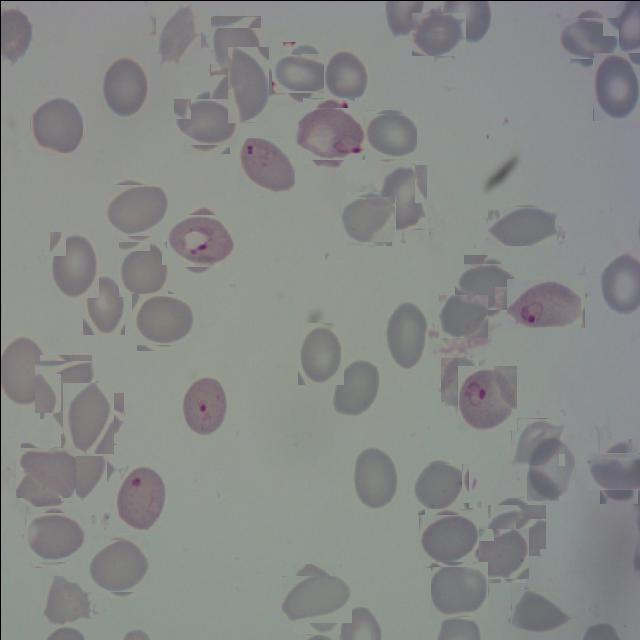leukocyte: (56, 388, 118, 448), (286, 568, 346, 628), (218, 54, 276, 114), (36, 357, 94, 415), (48, 230, 98, 297), (107, 181, 164, 239), (89, 537, 147, 594), (133, 290, 190, 347), (54, 438, 111, 495), (592, 51, 639, 120), (29, 94, 82, 155), (330, 356, 381, 419), (430, 562, 487, 618), (378, 163, 426, 229), (526, 434, 574, 500), (178, 92, 234, 148), (100, 54, 149, 118), (18, 444, 74, 500), (351, 444, 398, 510), (383, 298, 427, 368), (459, 258, 514, 314), (26, 509, 81, 564), (209, 15, 260, 74), (151, 6, 205, 61), (421, 510, 475, 564), (297, 322, 343, 384), (117, 240, 167, 296), (486, 205, 556, 245), (414, 459, 466, 512), (474, 527, 526, 580), (276, 47, 328, 98), (490, 501, 542, 552), (510, 589, 568, 634), (82, 274, 124, 336), (510, 417, 564, 465), (364, 111, 414, 162), (564, 12, 614, 62), (42, 574, 92, 624), (343, 194, 393, 244), (592, 444, 640, 496), (413, 9, 463, 57), (323, 48, 367, 97), (438, 294, 487, 337), (440, 357, 478, 405)
red blood cell: (505, 277, 584, 327), (458, 365, 518, 430), (297, 102, 359, 164), (169, 210, 229, 270), (236, 137, 294, 194)
